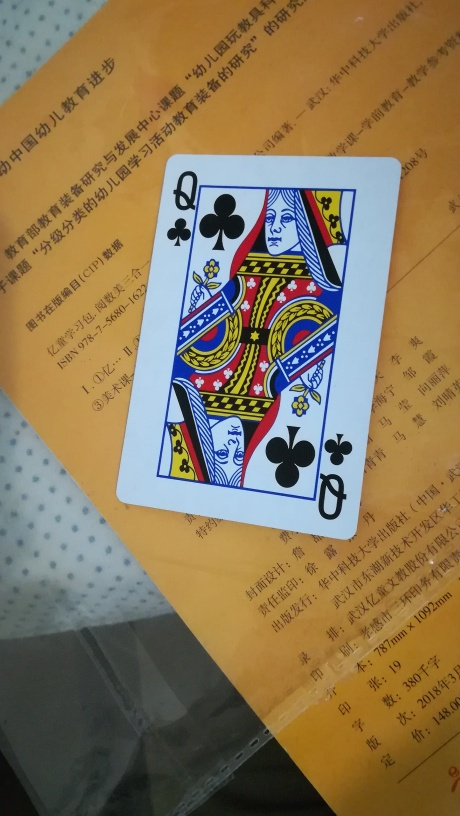mh q: (113, 153, 405, 542)
